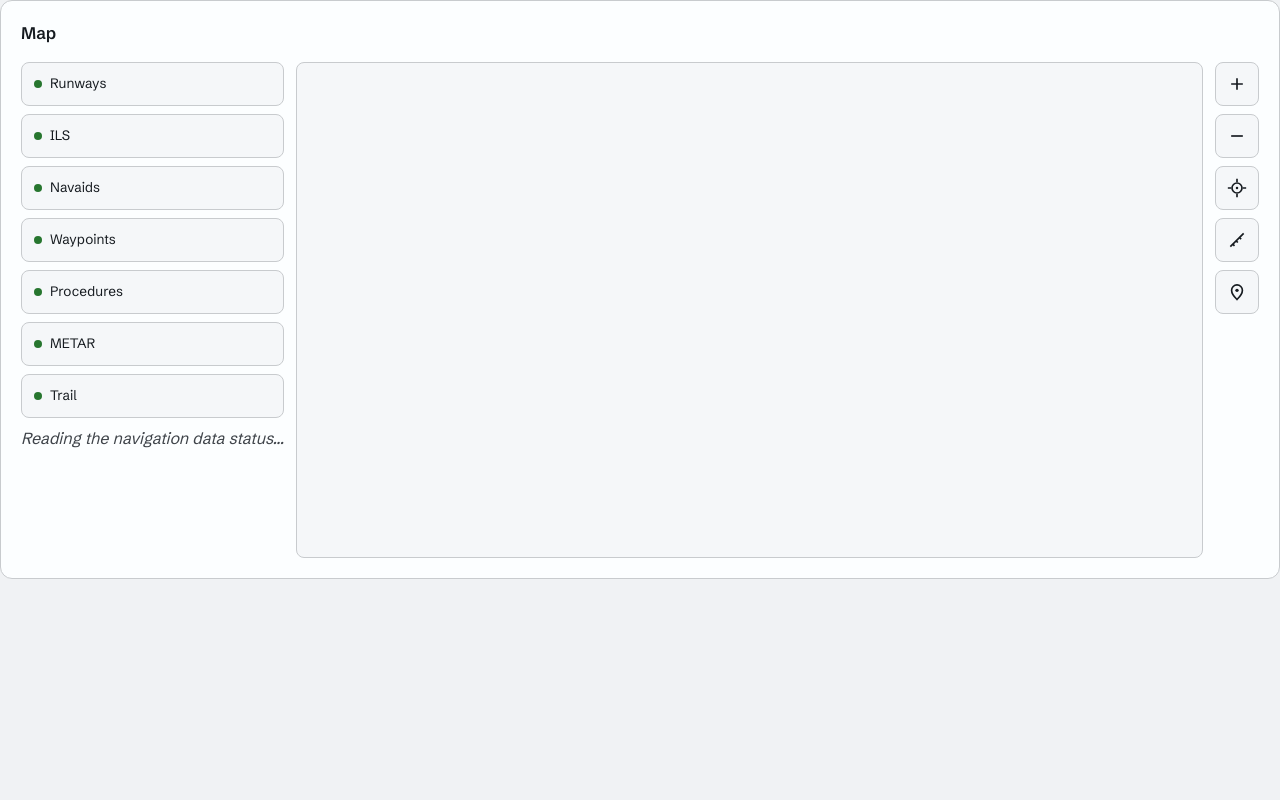
Test: MapPanel › arming measure shows the hint chip; the second press disarms it
The image size is (1280, 800).
Click the button named "Measure distance": point(1237, 240) [1215, 218, 1259, 262]
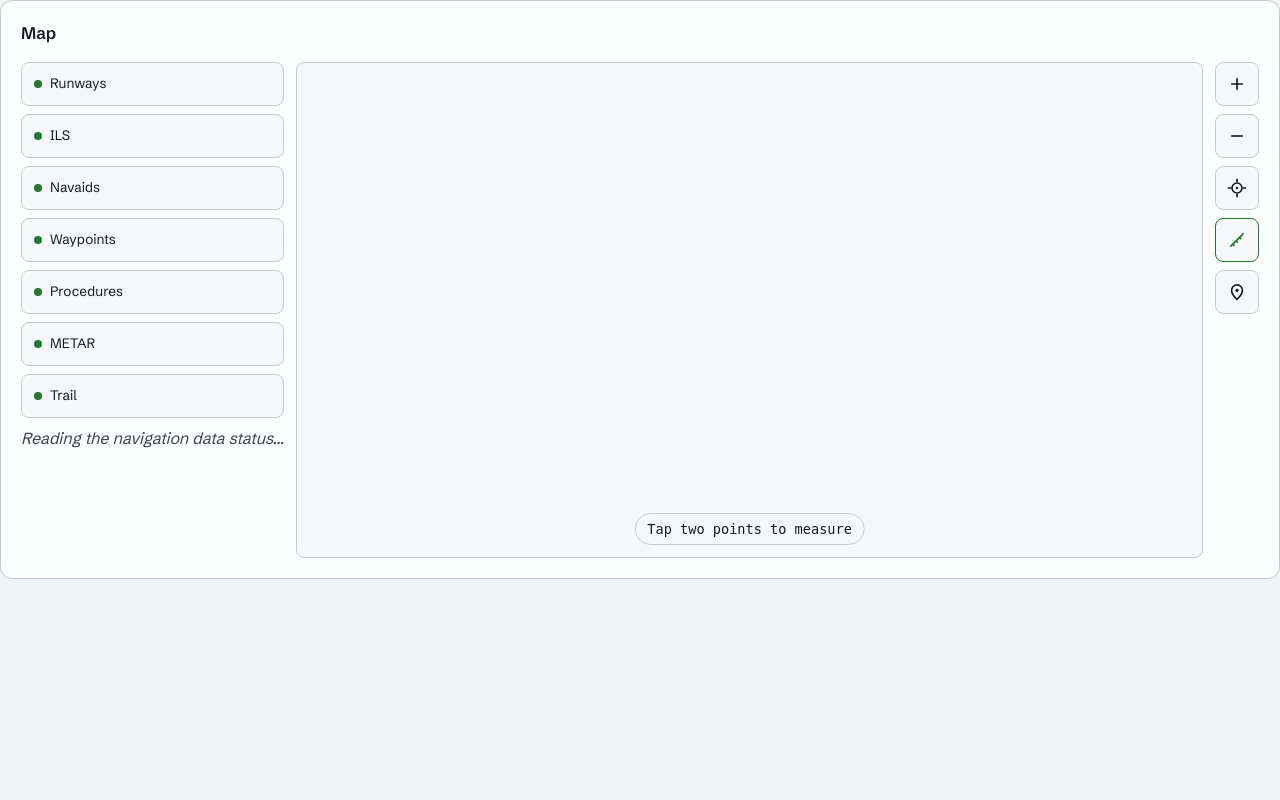
Now the text "Tap two points to measure" is shown, box [634, 513, 865, 545]
Click the button named "Measure distance": point(1237, 240) [1215, 218, 1259, 262]
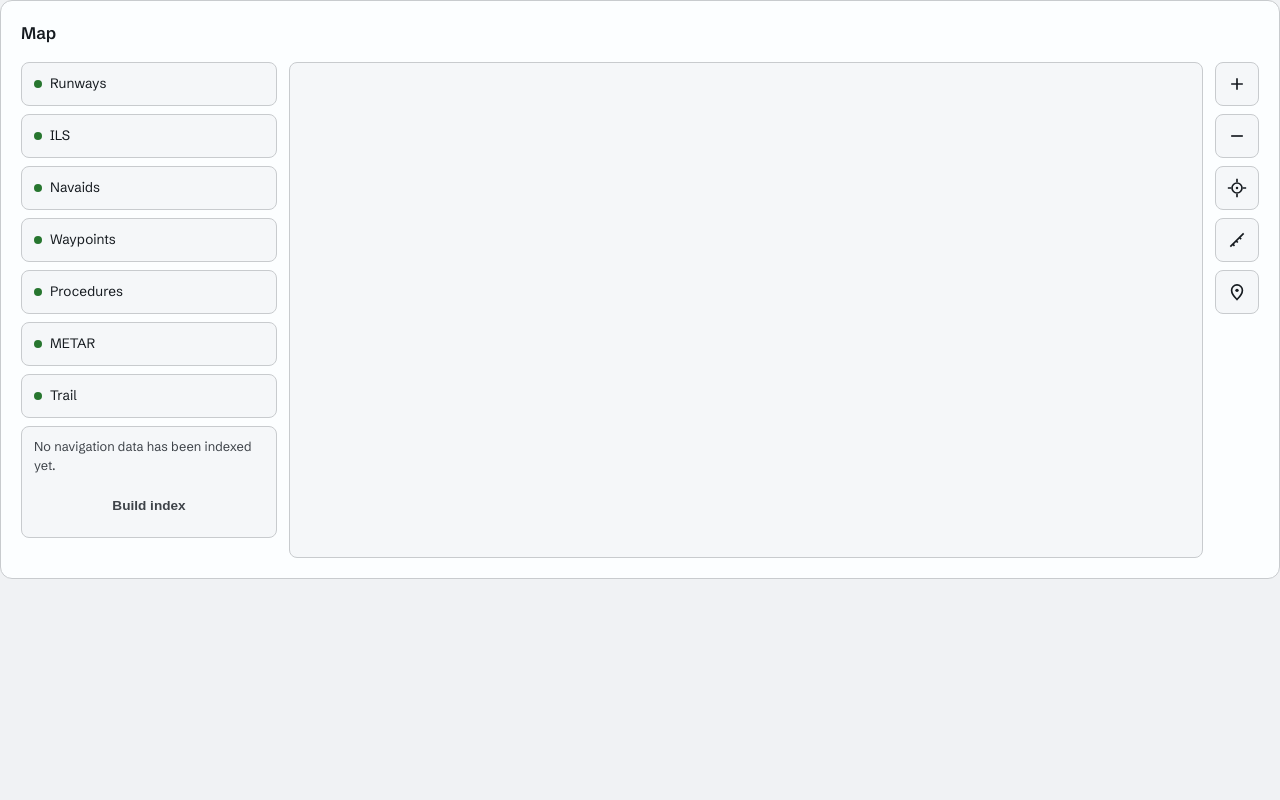
Now the text "Tap two points to measure" is gone
Now the text "No navigation data has been indexed yet." is shown, box [34, 437, 264, 475]
